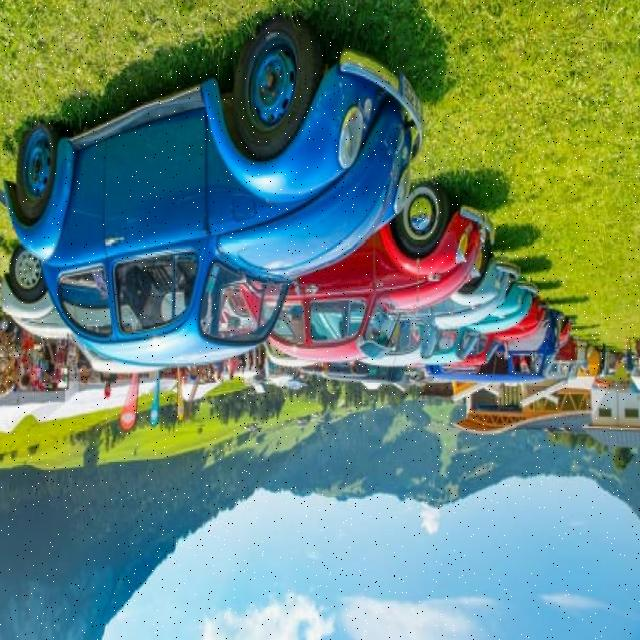car: (12, 42, 424, 362), (266, 192, 480, 376)
